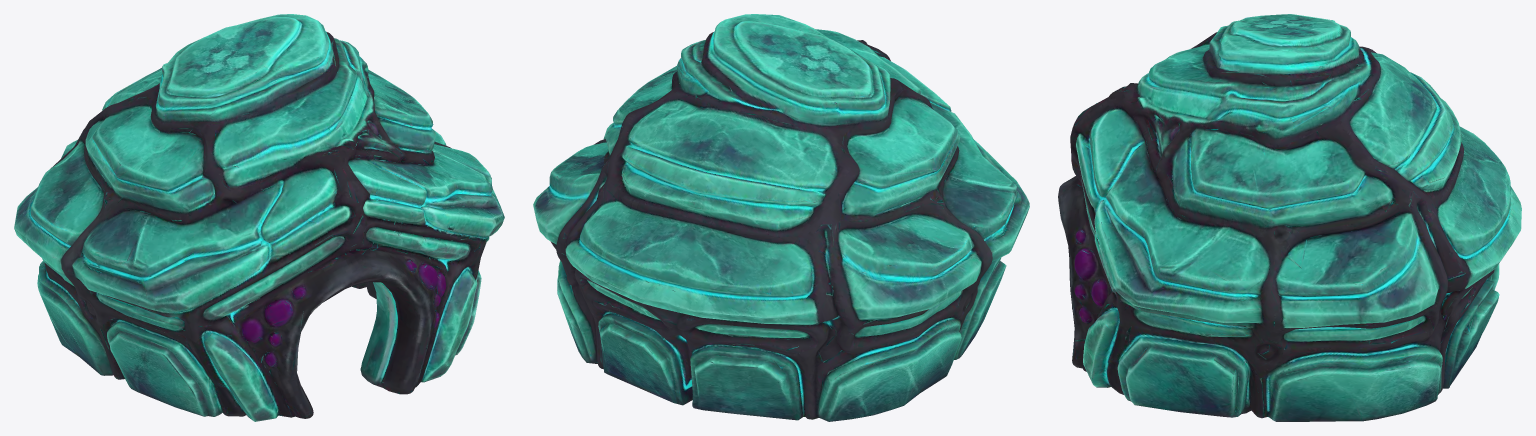
The model's file is zeknovan-village-habitat-arctic.glb.
3 renders of one model, left to right at view 1: azimuth 30°, elevation 25°; view 2: azimuth 150°, elevation 25°; view 3: azimuth 270°, elevation 25°, orthographic. The views are drawn at different scales.
Parts seen in each view (by area): view 1: Mesh1.0; view 2: Mesh1.0; view 3: Mesh1.0.
Part boxes in pixels (x1,y1,x2,y2): Mesh1.0: [14, 14, 504, 421]; Mesh1.0: [533, 14, 1029, 421]; Mesh1.0: [1058, 14, 1521, 421].
Bounding box in the file's own units: 1.9 × 1.37 × 1.8.
1 material, 1 textured.
